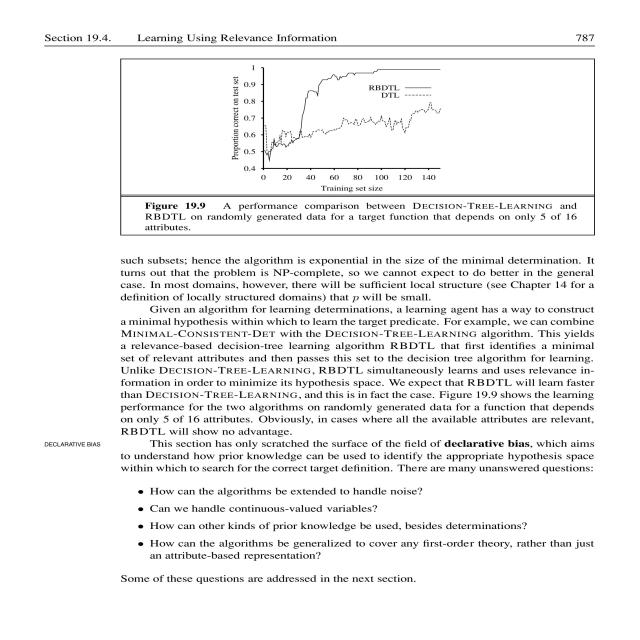diagram: (97, 50, 606, 242)
